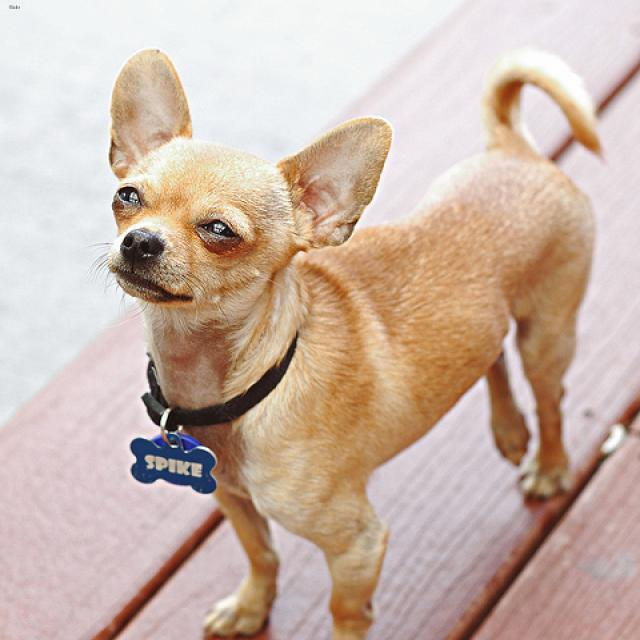dog: (107, 49, 389, 306)
